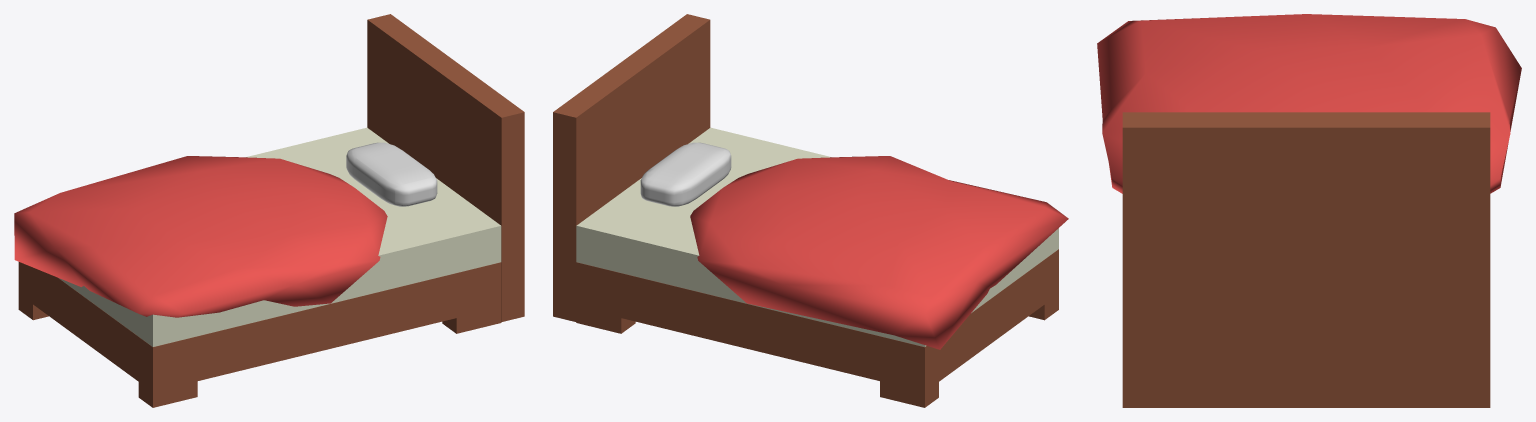
Rendered from Bed.fbx.
3 renders of one model, left to right at view 1: azimuth 30°, elevation 25°; view 2: azimuth 150°, elevation 25°; view 3: azimuth 270°, elevation 25°, orthographic. The views are drawn at different scales.
Visible parts, largest first — view 1: Icosphere, Cube, Cube.002, Cube.001, Mball; view 2: Icosphere, Cube, Cube.002, Cube.001, Mball; view 3: Cube.002, Icosphere.
Part boxes in pixels (box(x1,y1,x2,y2)): Icosphere: box(14, 156, 387, 317); Cube: box(18, 262, 501, 407); Cube.002: box(367, 14, 524, 322); Cube.001: box(59, 127, 501, 346); Mball: box(346, 142, 437, 206); Icosphere: box(690, 156, 1068, 349); Cube: box(576, 249, 1058, 407); Cube.002: box(553, 14, 710, 321); Cube.001: box(576, 127, 1058, 346); Mball: box(640, 142, 731, 206); Cube.002: box(1122, 112, 1490, 407); Icosphere: box(1097, 14, 1521, 193).
Bounding box in the file's own units: 331 × 169 × 231.
